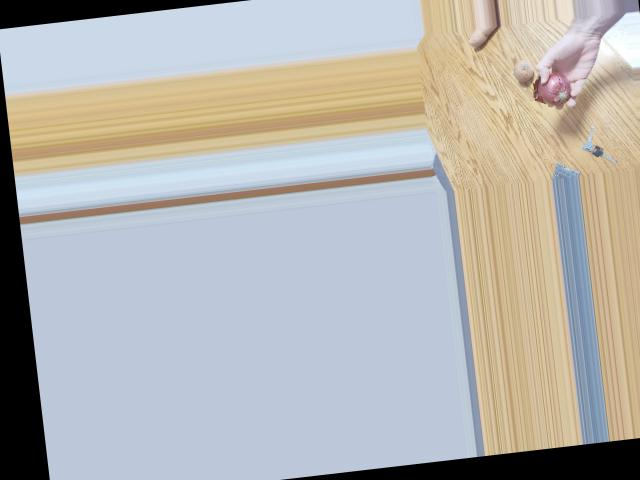onion: (509, 56, 535, 81)
